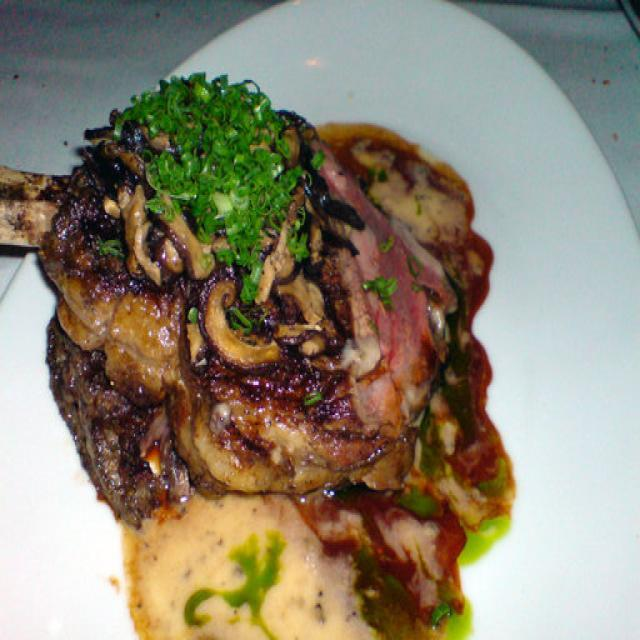Steak: (25, 68, 489, 510)
